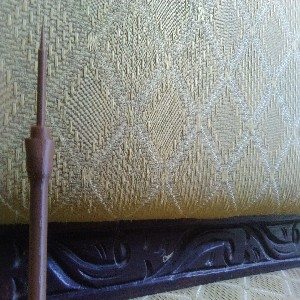solder: (24, 23, 56, 300)
